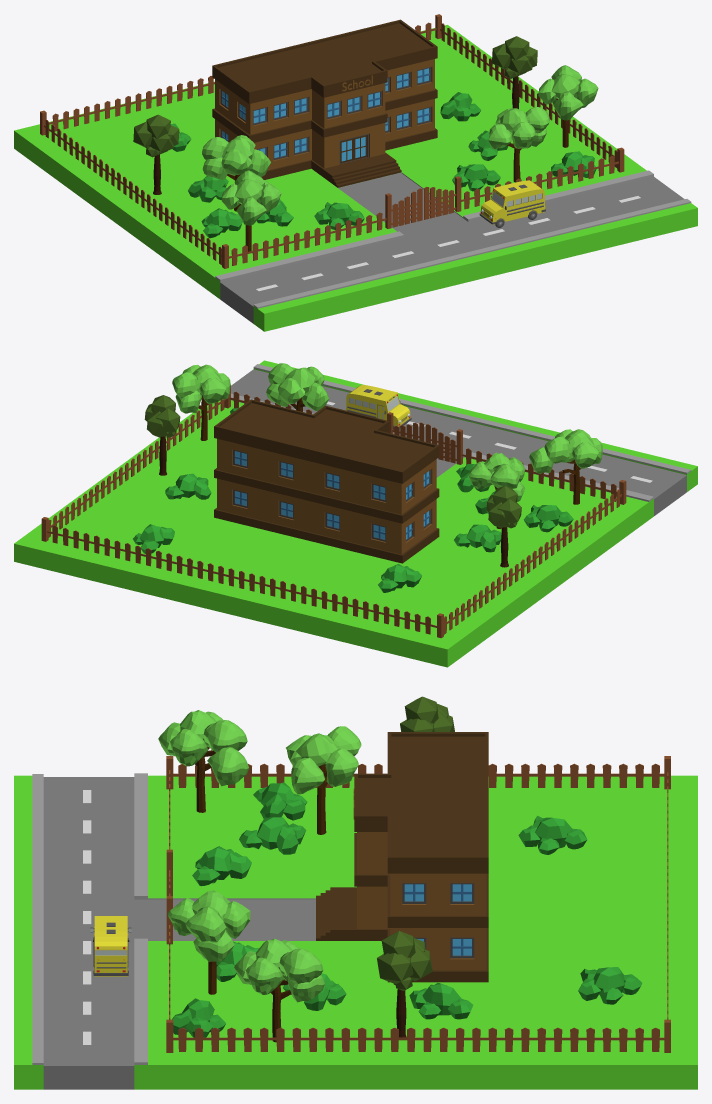
Rendered from asset1.glb.
The picture shows the model from 3 angles, top to bottom: view 1: azimuth 30°, elevation 25°; view 2: azimuth 150°, elevation 25°; view 3: azimuth 270°, elevation 25°; orthographic projection. The views are drawn at different scales.
Visible parts, largest first — view 1: Ground, School, Fence, Trees, Bushes, SchoolBuss; view 2: Ground, School, Fence, Trees, Bushes, SchoolBuss; view 3: Ground, School, Trees, Fence, Bushes, SchoolBuss.
Boxes of the visible parts, <box> form: Ground: <box>14,25,697,331</box>; School: <box>212,19,437,187</box>; Fence: <box>40,14,624,268</box>; Trees: <box>133,36,598,251</box>; Bushes: <box>170,92,596,238</box>; SchoolBuss: <box>479,180,545,227</box>; Ground: <box>14,360,697,667</box>; School: <box>214,399,439,563</box>; Fence: <box>41,384,626,638</box>; Trees: <box>144,363,602,567</box>; Bushes: <box>133,407,573,592</box>; SchoolBuss: <box>346,385,411,429</box>; Ground: <box>14,773,697,1089</box>; School: <box>316,732,488,982</box>; Trees: <box>158,696,454,1042</box>; Fence: <box>166,756,670,1052</box>; Bushes: <box>172,782,642,1037</box>; SchoolBuss: <box>90,916,131,976</box>.
Bounding box in the file's own units: 40.16 × 9.69 × 40.16.
